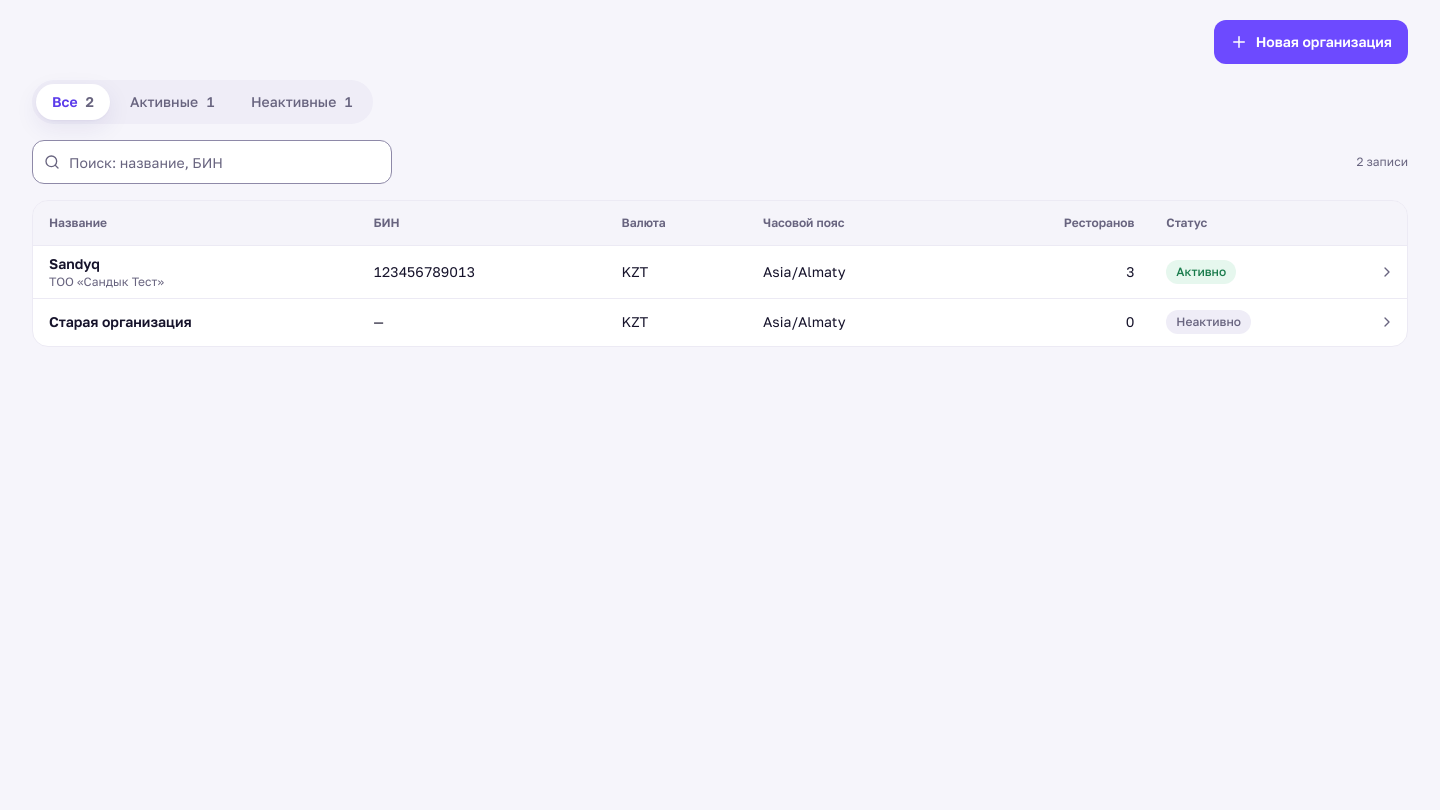
Test case: «Организации» (W2-ADM-06) › disabling asks in a dialog and shows the server refusal there
Click the text "Sandyq".
click(74, 263)  # box [49,254,100,272]
(page scrolled)
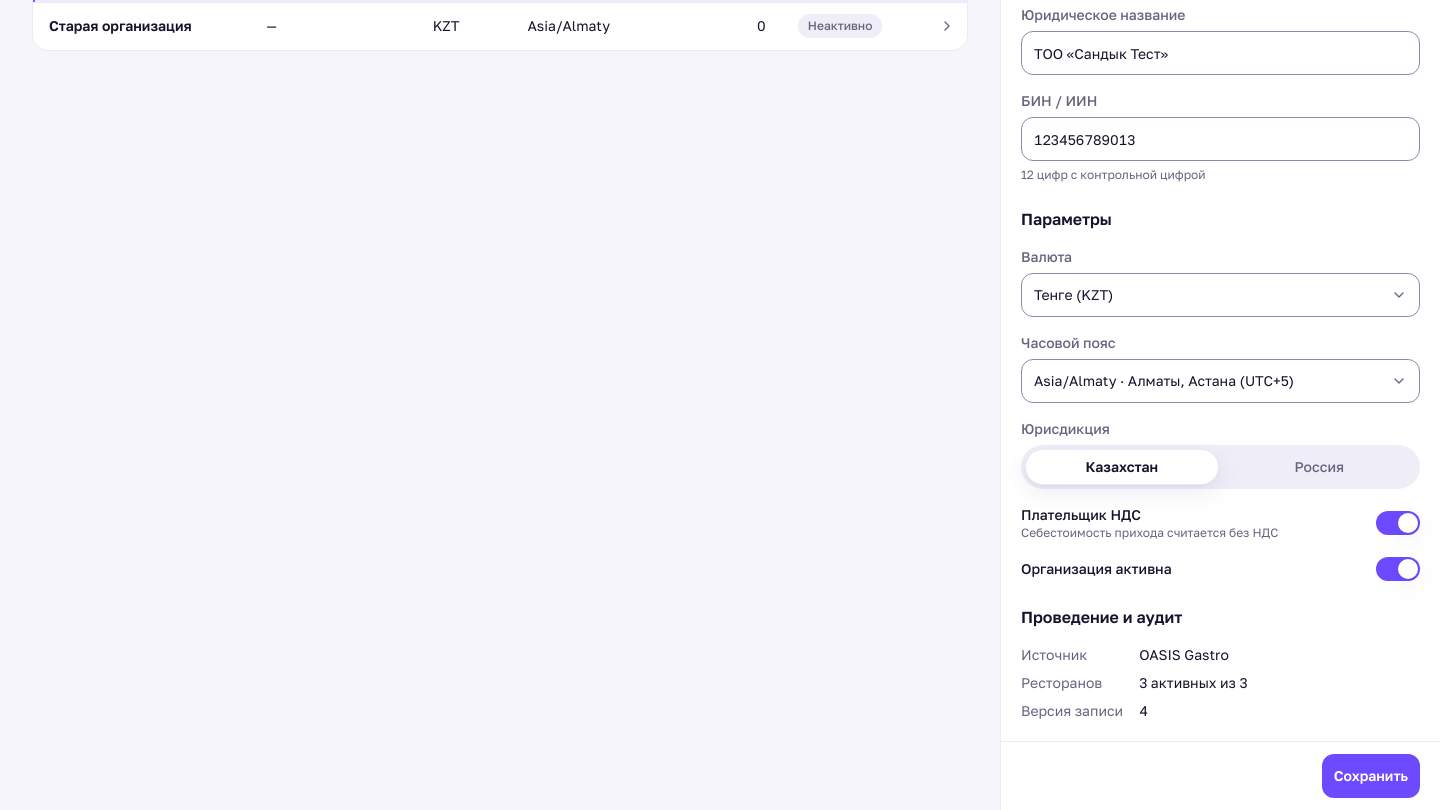
Click the switch named "Организация активна" in the row of "Организация активна".
click(1398, 569)  # box [1376,557,1420,581]
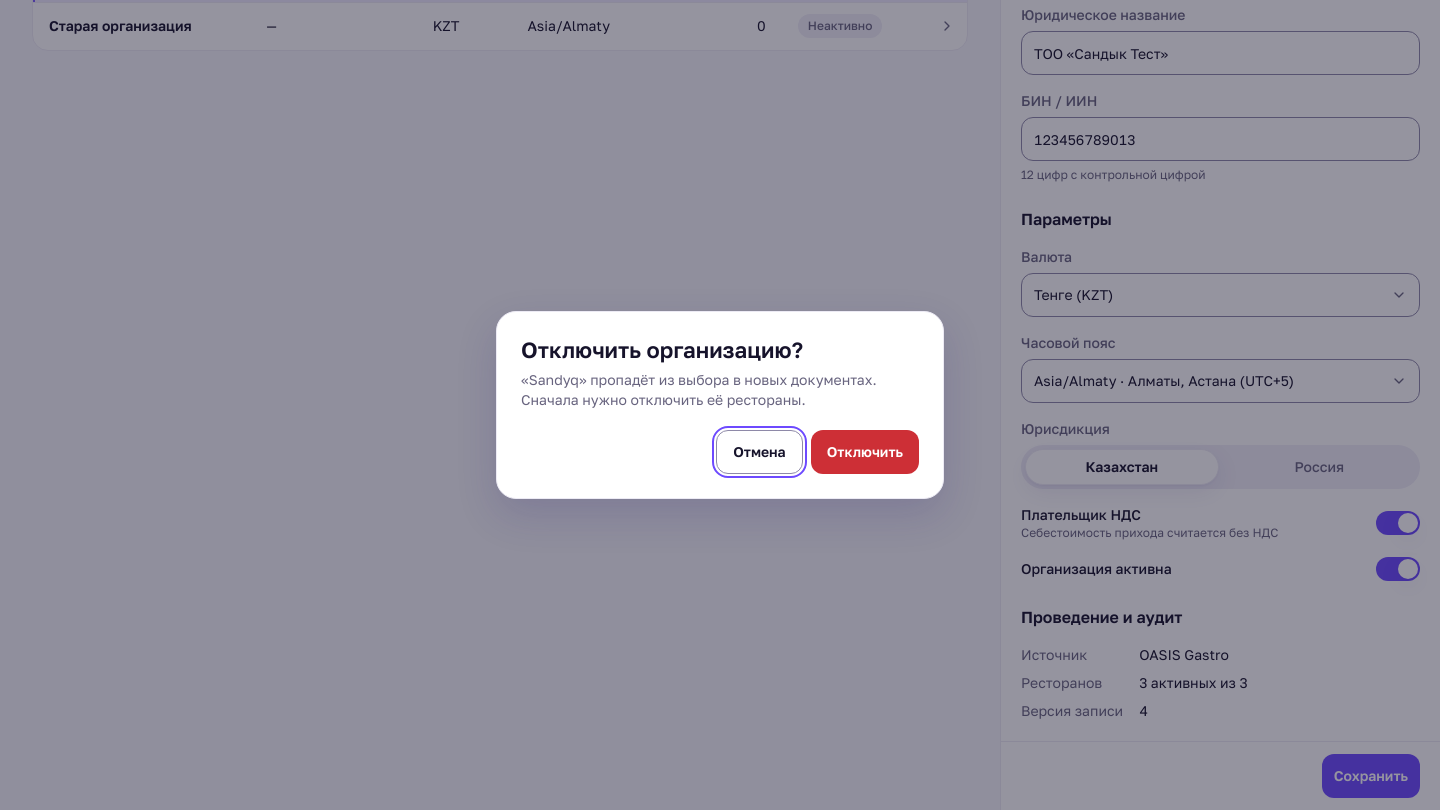
Now the heading "Отключить организацию?" is shown, box [521,336,803,363]
Click the button "Отключить".
click(865, 452)  # box [811,430,919,474]
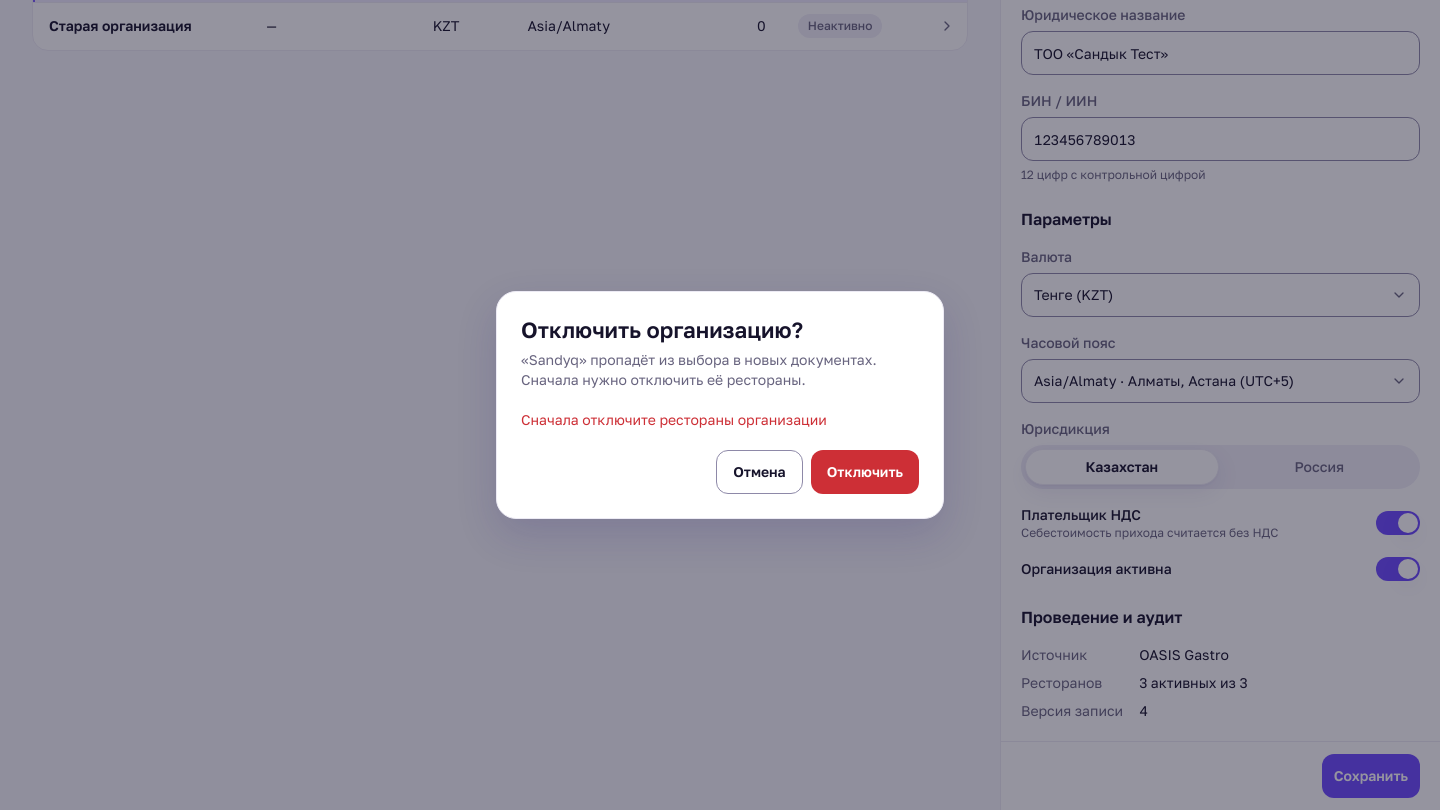
Now the text "Сначала отключите рестораны организации" is shown, box [521,411,827,428]
